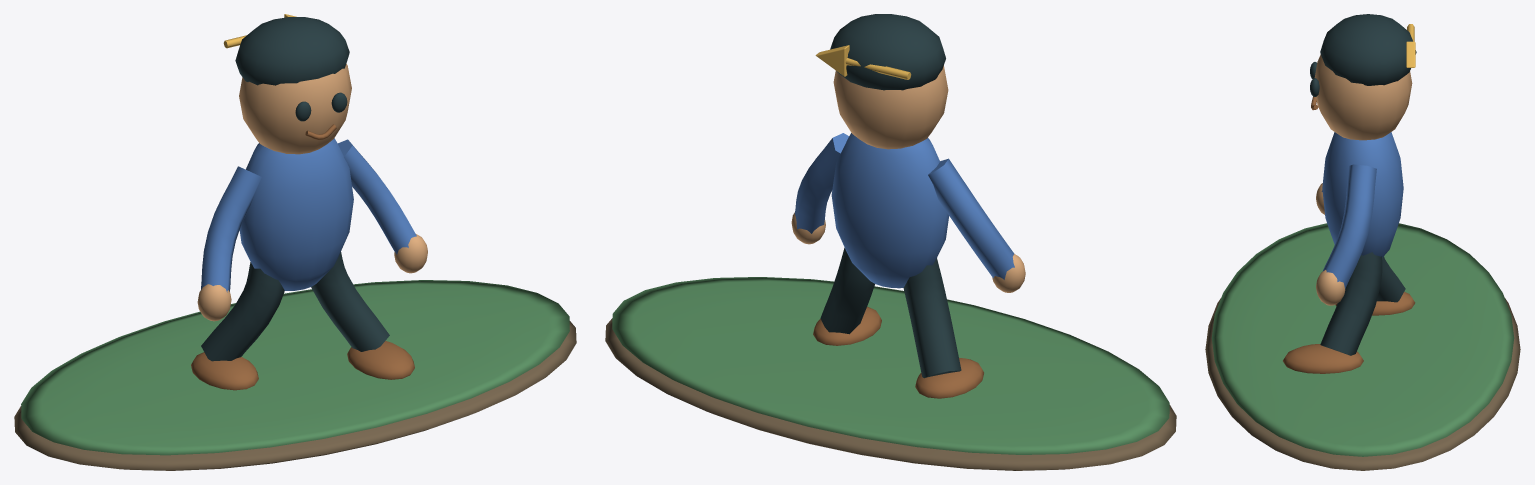
Rendered from complete-third-pursuing-overtake.glb.
3 views of the same model, side by side, from view 1: azimuth 30°, elevation 25°; view 2: azimuth 150°, elevation 25°; view 3: azimuth 270°, elevation 25° (orthographic). The views are drawn at different scales.
Visible parts, largest first — view 1: complete-third-pursuing-overtake_surface_01, complete-third-pursuing-overtake_surface_05, complete-third-pursuing-overtake_surface_03, complete-third-pursuing-overtake_surface_00, complete-third-pursuing-overtake_surface_02, complete-third-pursuing-overtake_surface_04; view 2: complete-third-pursuing-overtake_surface_01, complete-third-pursuing-overtake_surface_05, complete-third-pursuing-overtake_surface_03, complete-third-pursuing-overtake_surface_00, complete-third-pursuing-overtake_surface_02, complete-third-pursuing-overtake_surface_04, complete-third-pursuing-overtake_surface_06; view 3: complete-third-pursuing-overtake_surface_01, complete-third-pursuing-overtake_surface_03, complete-third-pursuing-overtake_surface_05, complete-third-pursuing-overtake_surface_00, complete-third-pursuing-overtake_surface_02, complete-third-pursuing-overtake_surface_04, complete-third-pursuing-overtake_surface_06.
Boxes of the visible parts, x1=… form: complete-third-pursuing-overtake_surface_01: x1=21, y1=280, x2=569, y2=455; complete-third-pursuing-overtake_surface_05: x1=200, y1=138, x2=416, y2=292; complete-third-pursuing-overtake_surface_03: x1=201, y1=17, x2=389, y2=361; complete-third-pursuing-overtake_surface_00: x1=14, y1=321, x2=576, y2=470; complete-third-pursuing-overtake_surface_02: x1=197, y1=64, x2=427, y2=321; complete-third-pursuing-overtake_surface_04: x1=191, y1=124, x2=414, y2=390; complete-third-pursuing-overtake_surface_01: x1=612, y1=277, x2=1169, y2=454; complete-third-pursuing-overtake_surface_05: x1=794, y1=133, x2=1014, y2=288; complete-third-pursuing-overtake_surface_03: x1=820, y1=14, x2=961, y2=378; complete-third-pursuing-overtake_surface_00: x1=605, y1=318, x2=1176, y2=470; complete-third-pursuing-overtake_surface_02: x1=791, y1=65, x2=1025, y2=292; complete-third-pursuing-overtake_surface_04: x1=813, y1=306, x2=983, y2=398; complete-third-pursuing-overtake_surface_06: x1=815, y1=45, x2=911, y2=79; complete-third-pursuing-overtake_surface_01: x1=1211, y1=223, x2=1514, y2=456; complete-third-pursuing-overtake_surface_03: x1=1310, y1=14, x2=1416, y2=355; complete-third-pursuing-overtake_surface_05: x1=1321, y1=132, x2=1403, y2=288; complete-third-pursuing-overtake_surface_00: x1=1205, y1=298, x2=1520, y2=470; complete-third-pursuing-overtake_surface_02: x1=1314, y1=54, x2=1412, y2=305; complete-third-pursuing-overtake_surface_04: x1=1283, y1=96, x2=1415, y2=373; complete-third-pursuing-overtake_surface_06: x1=1406, y1=24, x2=1415, y2=67.
Size of the model in its own units: 4.56 by 3 by 2.5.
